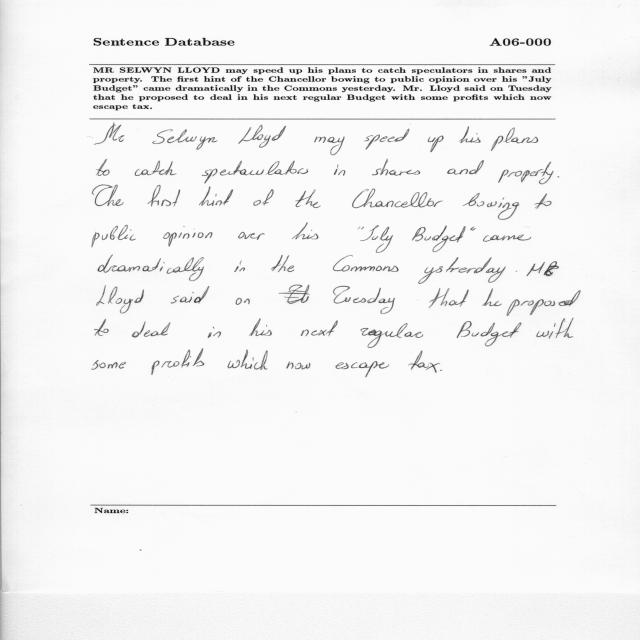word: (98, 255, 204, 281), (202, 161, 308, 184), (418, 257, 506, 284), (507, 290, 581, 316), (352, 189, 443, 209), (333, 286, 395, 314), (457, 321, 522, 346), (361, 323, 423, 348), (463, 193, 520, 220), (152, 348, 205, 375), (412, 226, 466, 252), (153, 129, 218, 150), (97, 285, 144, 314), (498, 162, 554, 184), (491, 127, 538, 151), (333, 255, 399, 272), (238, 125, 286, 148), (163, 226, 213, 246), (92, 225, 136, 247), (364, 129, 409, 150), (360, 225, 393, 253), (336, 361, 389, 377), (227, 350, 268, 370), (372, 159, 420, 176), (429, 288, 469, 308), (536, 318, 574, 339), (408, 350, 440, 373), (148, 185, 181, 207), (171, 286, 209, 304), (199, 186, 233, 206), (95, 123, 125, 145), (93, 185, 124, 206), (135, 161, 177, 176), (132, 322, 170, 338), (301, 321, 338, 337), (314, 137, 345, 156), (279, 285, 309, 304), (447, 160, 484, 175), (526, 261, 559, 276), (295, 190, 321, 209), (292, 223, 319, 240), (250, 318, 272, 336), (271, 255, 294, 272), (483, 234, 531, 242), (459, 127, 481, 144), (482, 288, 502, 306), (253, 189, 274, 206), (92, 360, 126, 370), (428, 136, 444, 153), (535, 194, 552, 209), (95, 319, 109, 336), (97, 159, 110, 176), (238, 232, 265, 240), (286, 362, 311, 370), (208, 327, 221, 338), (234, 260, 245, 272), (334, 165, 345, 176), (235, 298, 250, 305), (470, 227, 476, 231), (358, 227, 364, 230), (558, 176, 560, 178), (440, 369, 442, 371), (516, 271, 517, 272)
